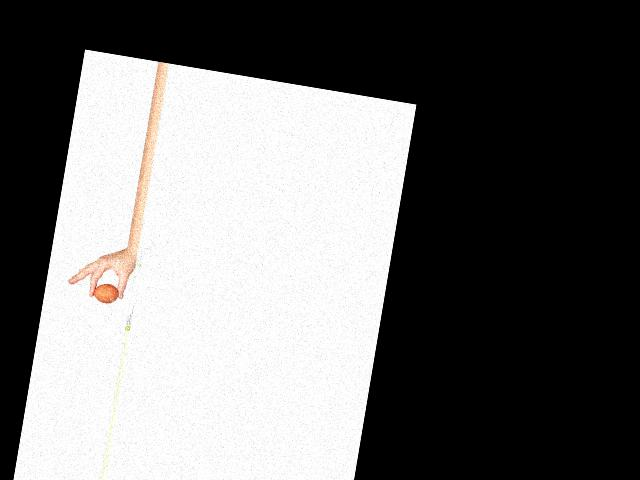egg: (92, 281, 120, 305)
